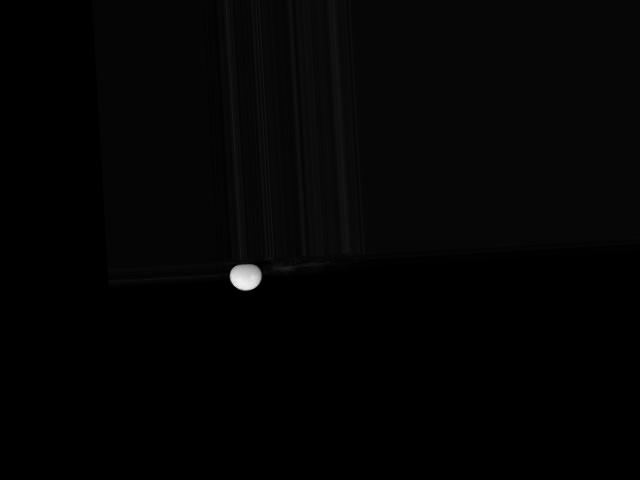egg: (229, 263, 263, 291)
